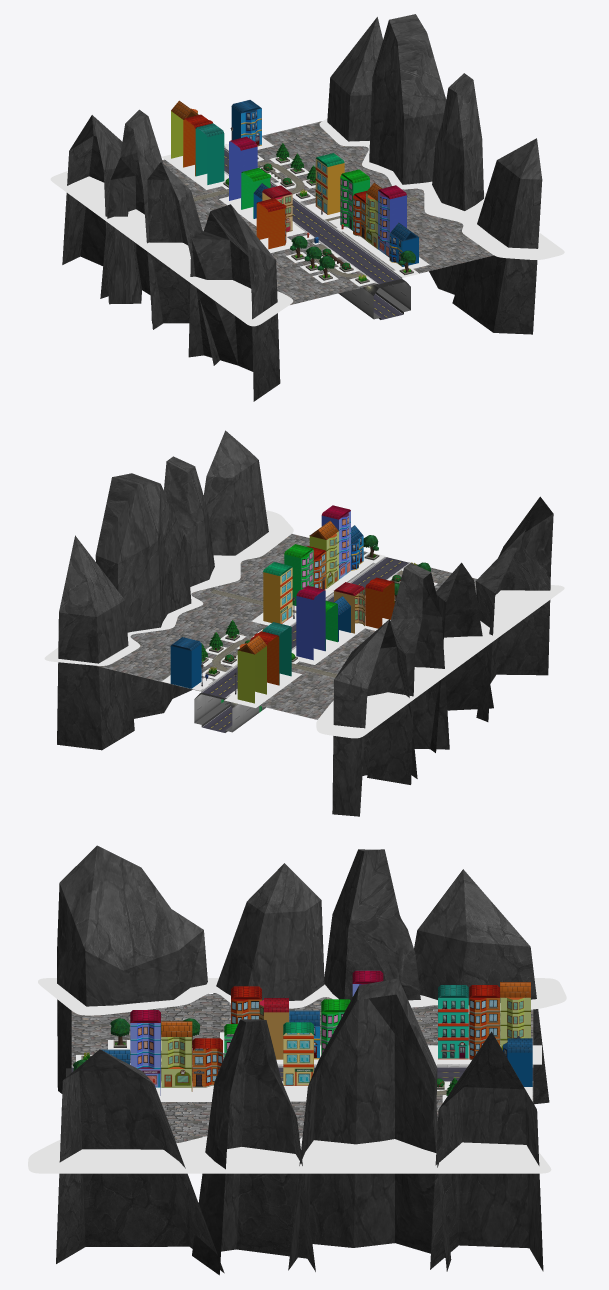
Rendered from City_15.fbx.
3 renders of one model, top to bottom at view 1: azimuth 30°, elevation 25°; view 2: azimuth 150°, elevation 25°; view 3: azimuth 270°, elevation 25°, orthographic. The views are drawn at different scales.
Visible parts, largest first — view 1: City_15; view 2: City_15; view 3: City_15.
Part boxes in pixels (x1=…): City_15: x1=50, y1=14, x2=564, y2=401; City_15: x1=44, y1=430, x2=564, y2=816; City_15: x1=28, y1=845, x2=566, y2=1275.
Size of the model in its own units: 22617 by 13384 by 25170.
12 materials, 12 textured.
